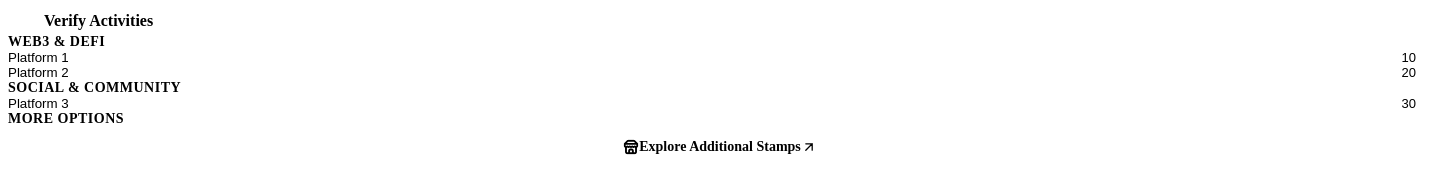
Test: AddStamps Component › Stamp Sections Display › should handle platform selection
The width and height of the screenshot is (1439, 172).
Step 1. Click the text "Platform 1" → (38, 57), box [8,50,69,65]
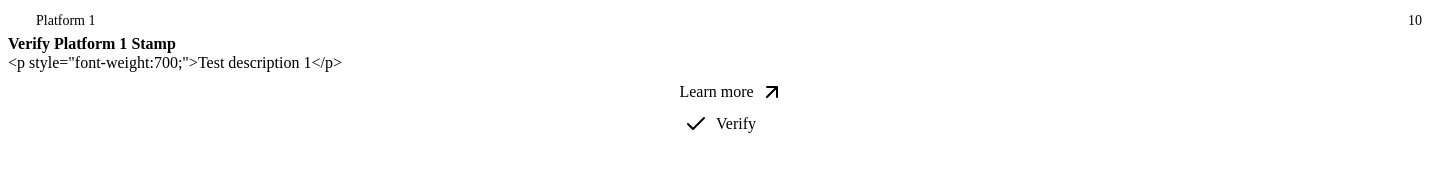
Expected: the text "<p style=\"font-weight:700;\">Test description 1</p>" is shown, [8,54,342,71]
